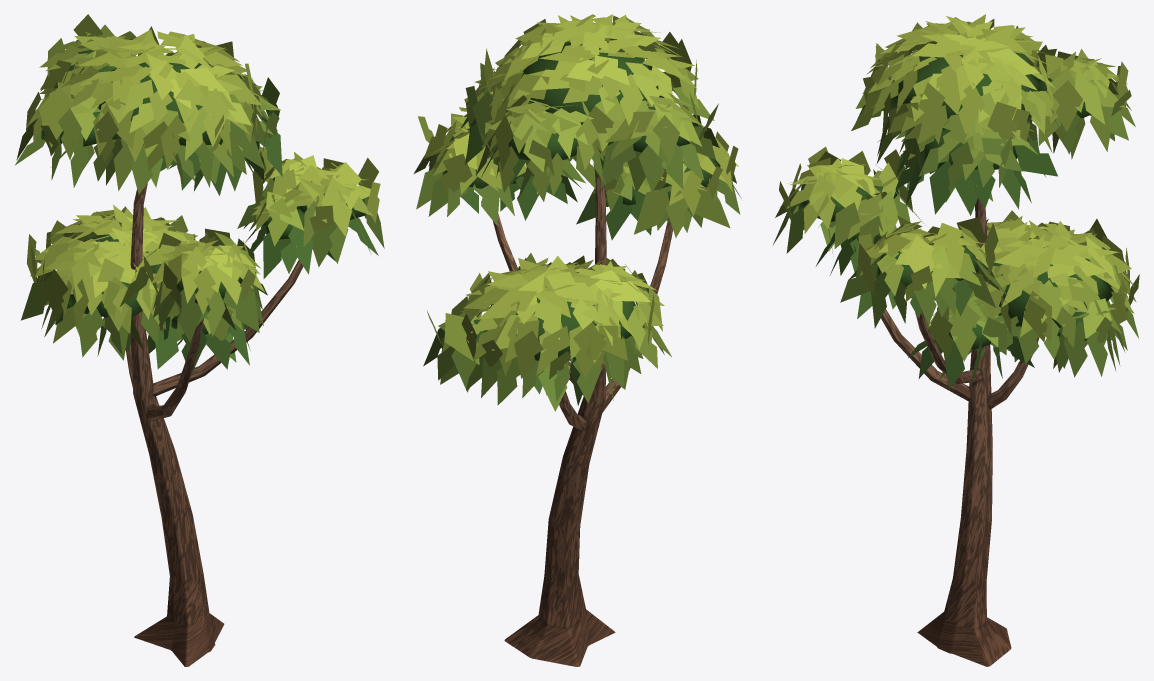
The model's file is tree_3.glb.
3 renders of one model, left to right at view 1: azimuth 30°, elevation 25°; view 2: azimuth 150°, elevation 25°; view 3: azimuth 270°, elevation 25°, orthographic. The views are drawn at different scales.
Visible parts, largest first — view 1: tree_3; view 2: tree_3; view 3: tree_3.
Boxes of the visible parts, bbox=[...] form: tree_3: bbox=[15, 14, 384, 666]; tree_3: bbox=[414, 14, 741, 666]; tree_3: bbox=[773, 14, 1139, 666].
Size of the model in its own units: 4.3 by 7.8 by 4.3.
Materials: 2 (2 with a texture image).
